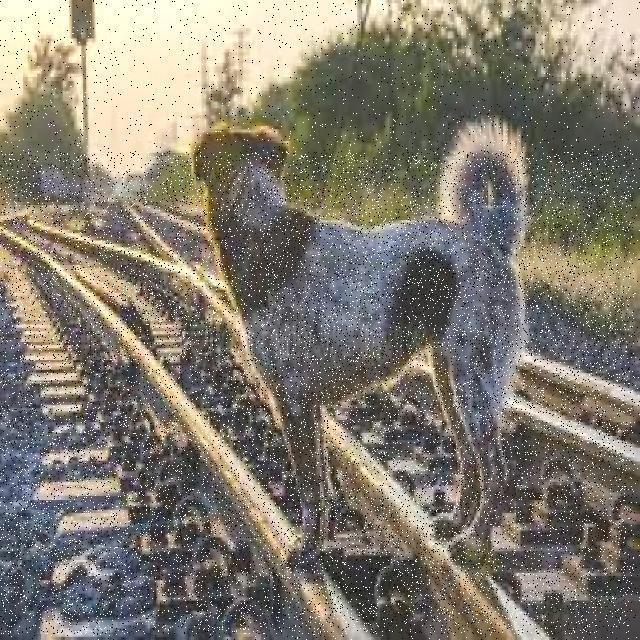rail: (1, 153, 635, 635)
